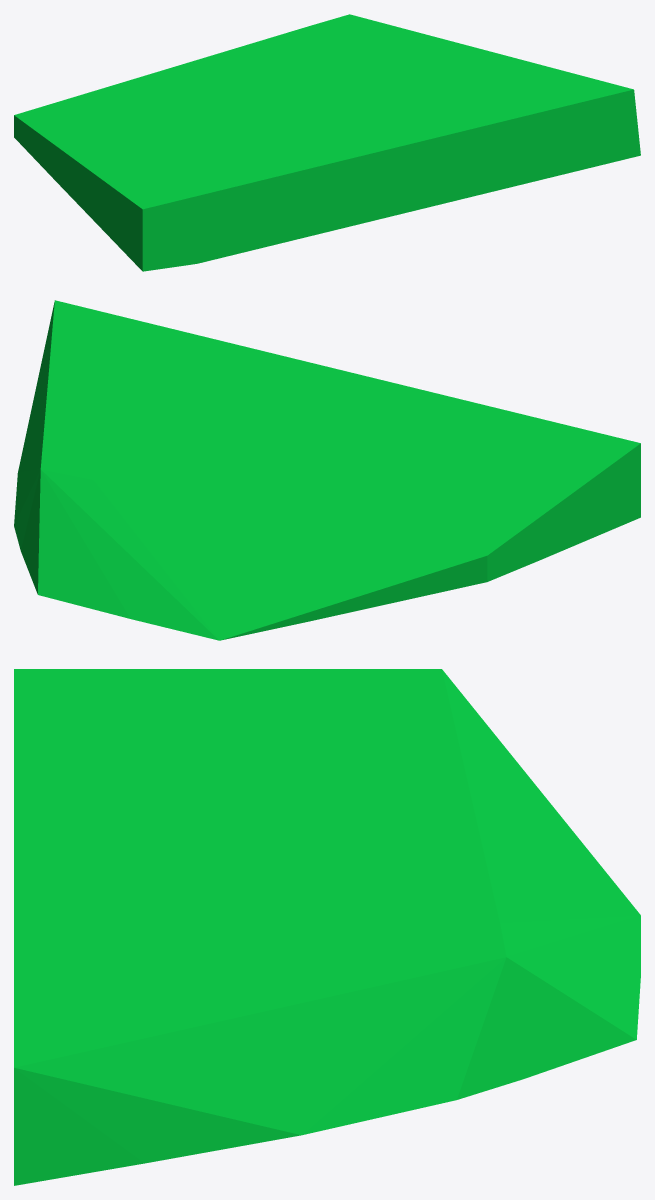
3 views of the same model, one above another, from view 1: azimuth 30°, elevation 25°; view 2: azimuth 150°, elevation 25°; view 3: azimuth 270°, elevation 25° (orthographic). The views are drawn at different scales.
Bounding box in the file's own units: 2.11 × 0.2737 × 1.38.
